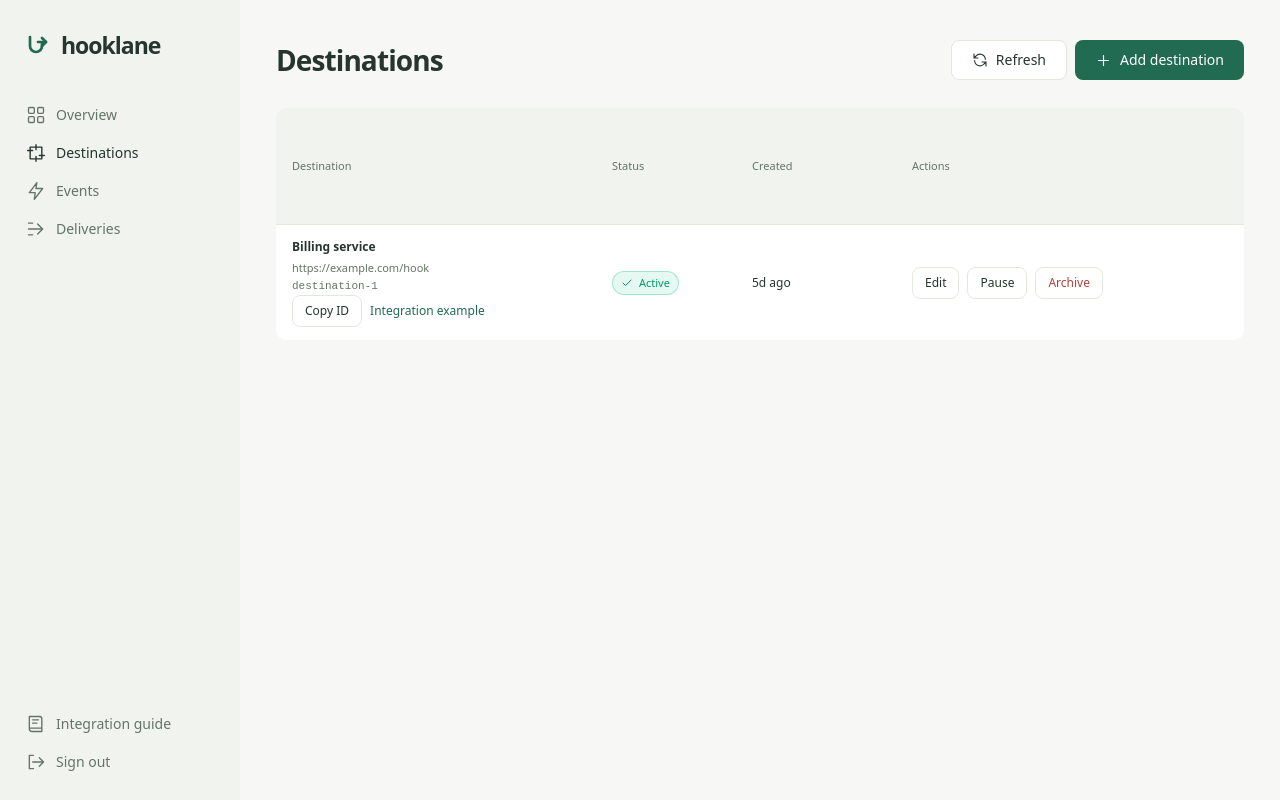
audit regression flows › pauses from an old destination row using only the enabled flag
This screenshot has width=1280, height=800.
Click the button with aria-label "Pause Billing service": {"x": 997, "y": 283} x1=968 y1=267 x2=1027 y2=299
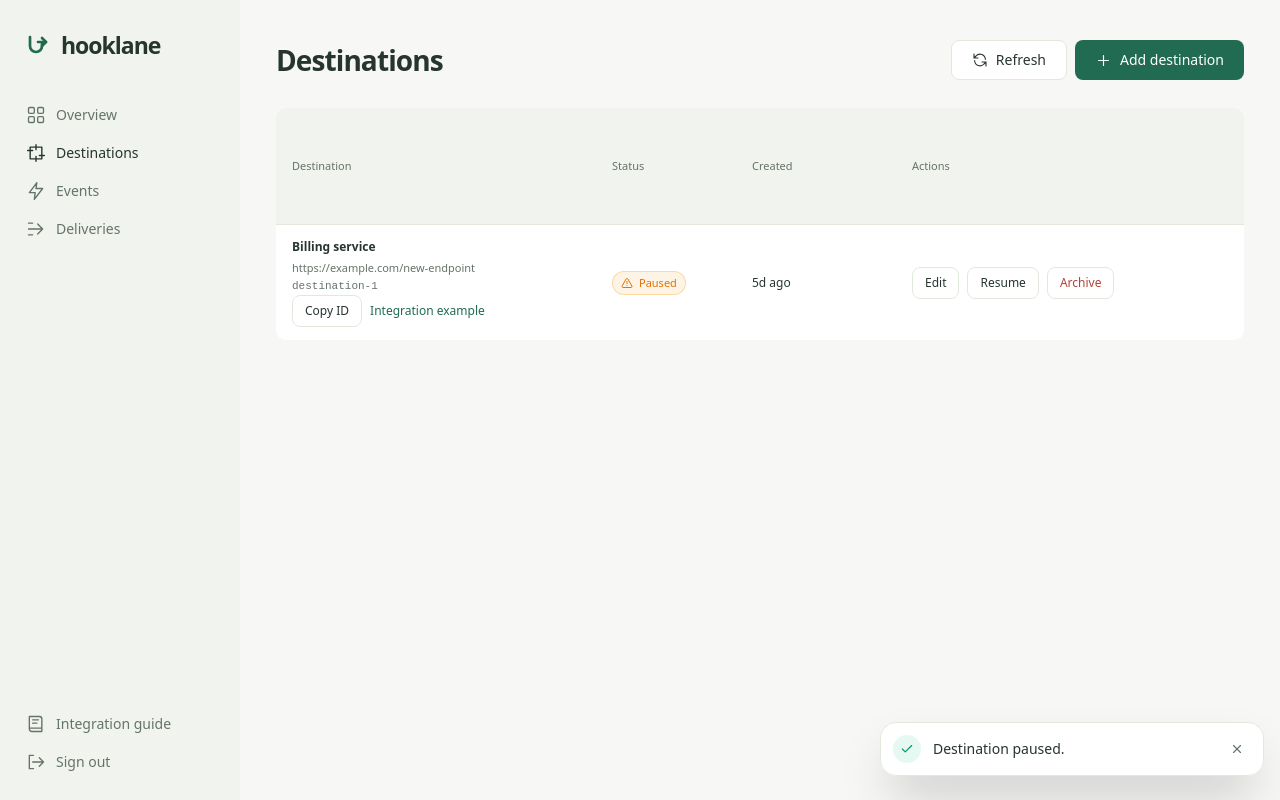
Now the text "https://example.com/new-endpoint" is shown, box x1=292 y1=260 x2=475 y2=275
